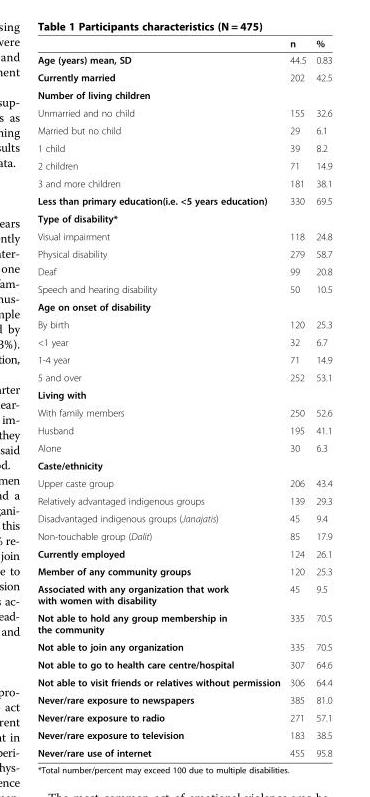table: (36, 37, 331, 758)
table column: (36, 37, 284, 758), (284, 37, 310, 758), (310, 37, 331, 758)
table column header: (36, 37, 331, 51)
table projected row header: (36, 85, 331, 103), (36, 209, 331, 227), (36, 297, 331, 315), (36, 385, 331, 403), (36, 456, 331, 474)
table row: (36, 579, 331, 608), (36, 608, 331, 637), (36, 85, 331, 103), (36, 103, 331, 121), (36, 121, 331, 139), (36, 156, 331, 174), (36, 191, 331, 209), (36, 209, 331, 227), (36, 244, 331, 262), (36, 262, 331, 280), (36, 297, 331, 315), (36, 315, 331, 333), (36, 350, 331, 368), (36, 385, 331, 403), (36, 403, 331, 421), (36, 438, 331, 456), (36, 456, 331, 474), (36, 491, 331, 509), (36, 509, 331, 527), (36, 544, 331, 562), (36, 637, 331, 655), (36, 655, 331, 673), (36, 690, 331, 708), (36, 708, 331, 726), (36, 51, 331, 68), (36, 68, 331, 85), (36, 139, 331, 156), (36, 174, 331, 191), (36, 227, 331, 244), (36, 280, 331, 297), (36, 333, 331, 350), (36, 368, 331, 385), (36, 421, 331, 438), (36, 474, 331, 491), (36, 527, 331, 544), (36, 562, 331, 579), (36, 673, 331, 690), (36, 726, 331, 743), (36, 743, 331, 758), (36, 37, 331, 51)
